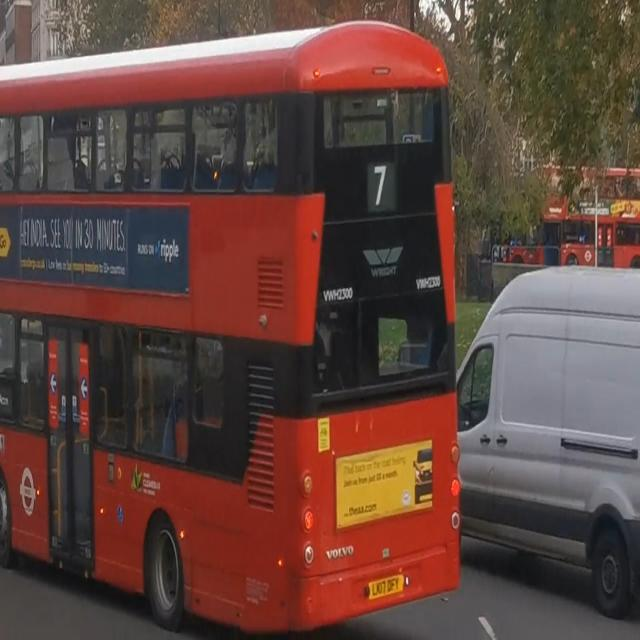Car: (0, 18, 449, 631), (453, 266, 640, 617)
